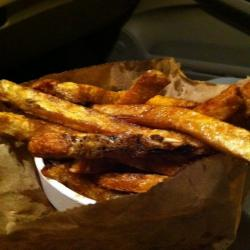fries: (1, 72, 250, 195)
